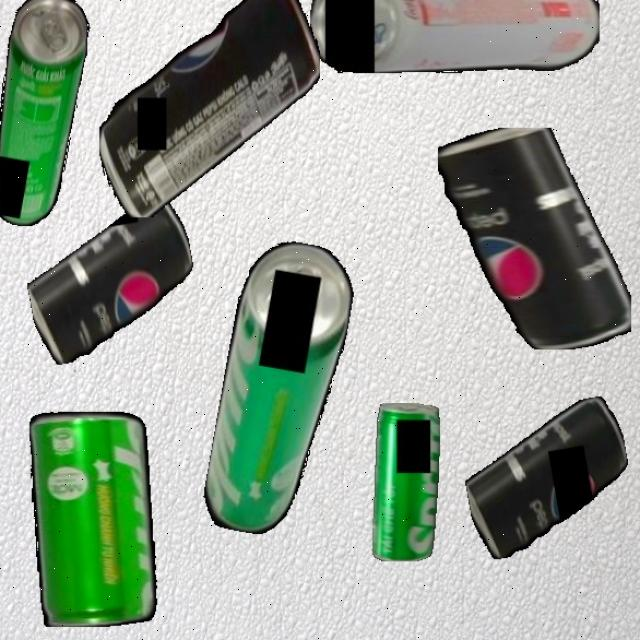debris: (199, 235, 360, 543), (98, 0, 319, 217), (437, 128, 631, 349), (18, 195, 206, 367), (455, 394, 640, 562), (29, 411, 158, 627), (0, 0, 95, 232), (310, 0, 600, 73), (371, 402, 440, 561)
